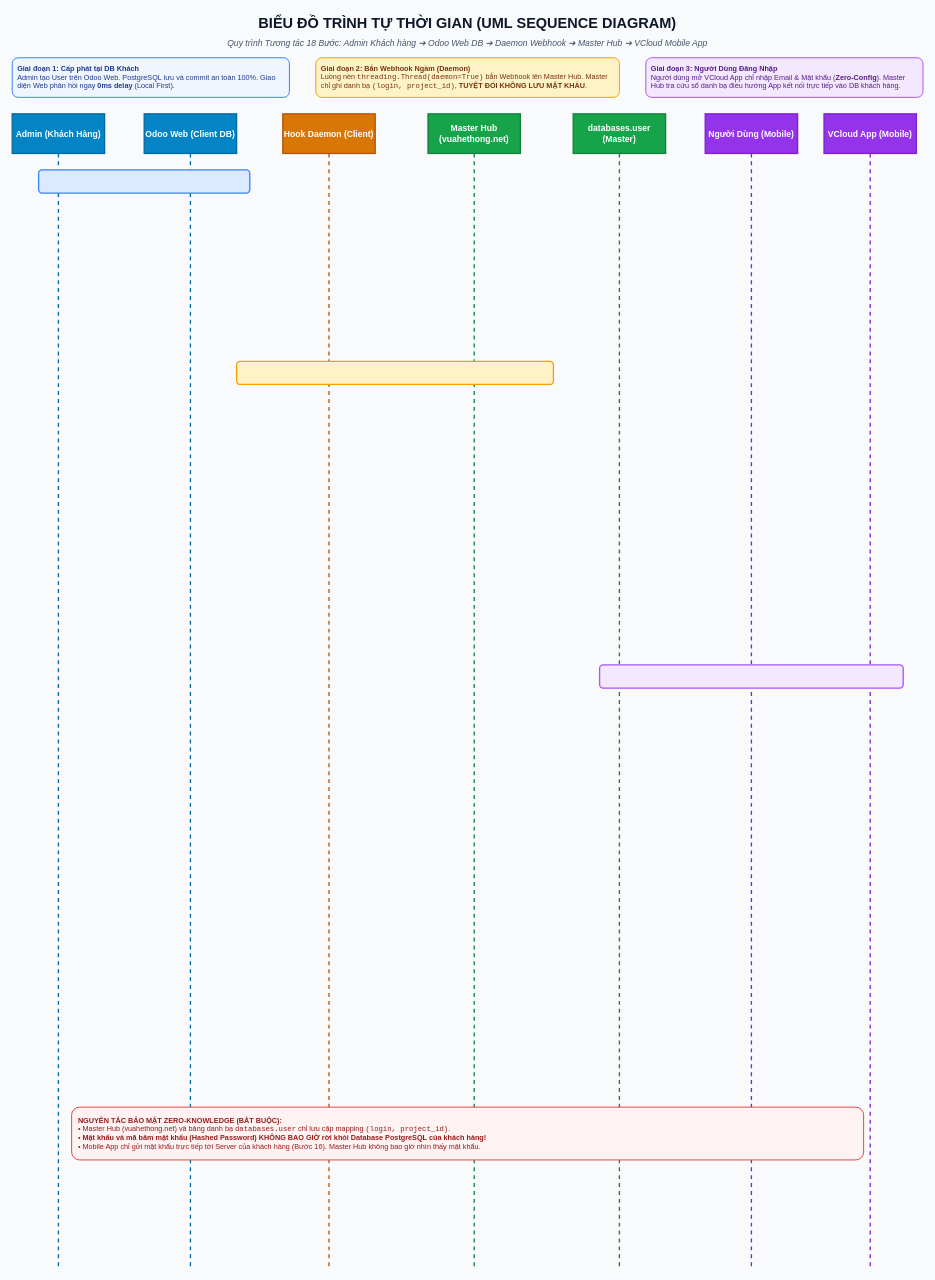
Image size: 935x1280. Some labels were removed from this diagram. Here are the shapes that lost their labels. From the top down, the centre of each, then its label:
the point at 144,181: GIAI ĐOẠN 1: CẤP PHÁT TÀI KHOẢN TẠI DB KHÁCH HÀNG (LOCAL FIRST)
the point at 395,372: GIAI ĐOẠN 2: ĐỒNG BỘ WEBHOOK BẤT ĐỒNG BỘ (HOÀN TOÀN TỰ ĐỘNG CHẠY NGẦM)
the point at 751,676: GIAI ĐOẠN 3: NGƯỜI DÙNG ĐĂNG NHẬP TRÊN MOBILE (ZERO-CONFIG ĐỊNH TUYẾN)
